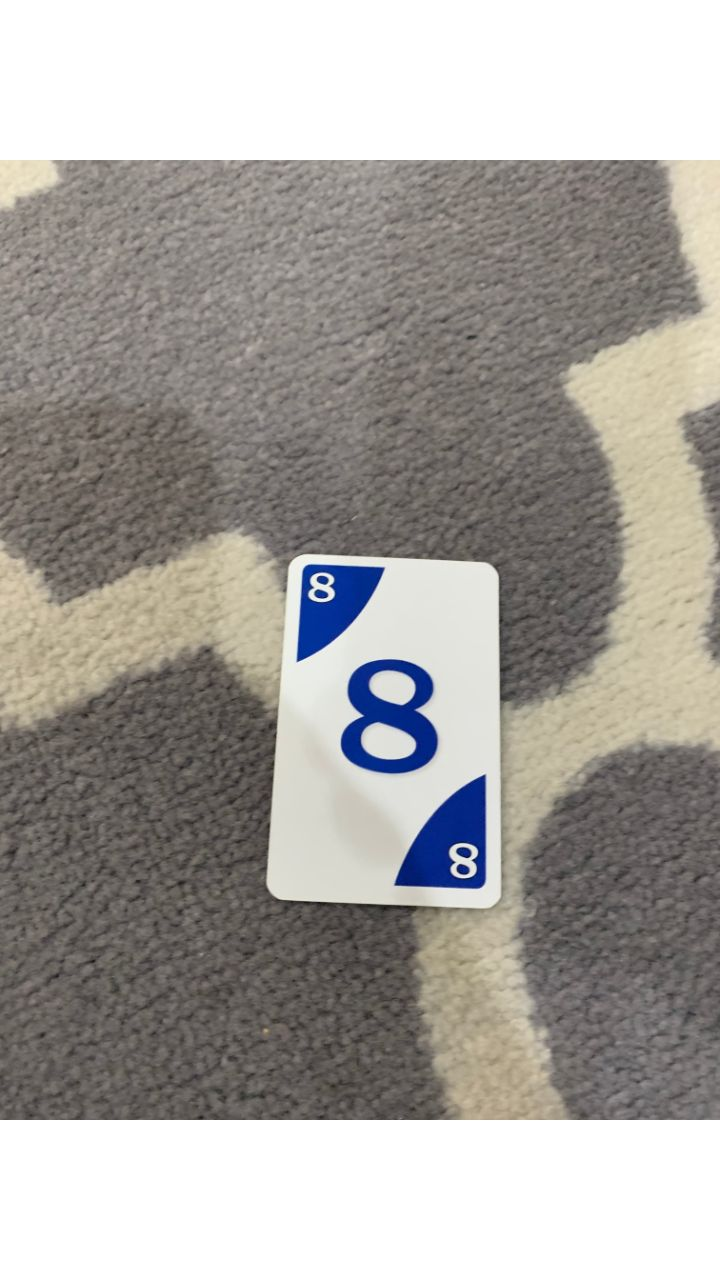eight: (262, 554, 513, 916)
